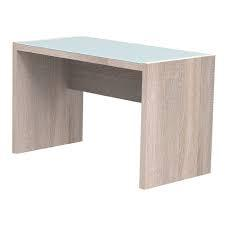desk: (8, 21, 217, 195)
